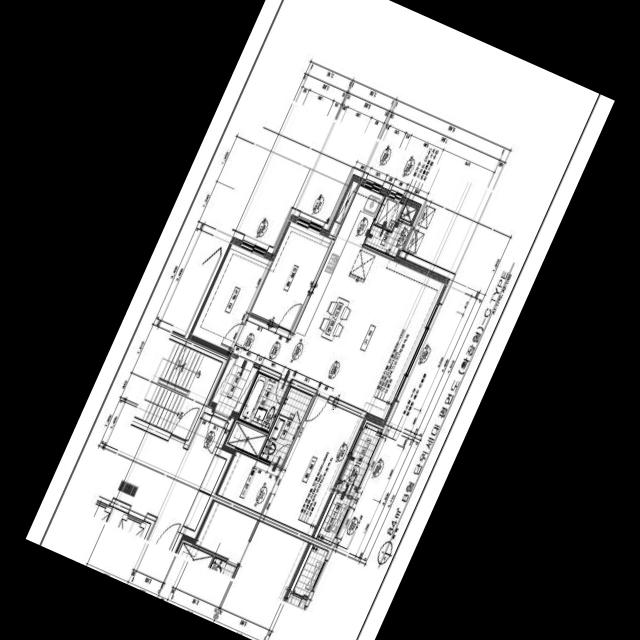background: (25, 0, 615, 640)
space_balconi: (340, 423, 382, 493), (365, 196, 411, 257)
space_bedroom: (263, 396, 367, 536), (251, 214, 332, 331), (192, 238, 273, 353)
space_dressroom: (218, 451, 280, 512)
space_elevator_hall: (99, 414, 228, 552)
space_front: (208, 356, 259, 420)
space_kitchen: (293, 185, 383, 350)
space_living_room: (233, 251, 449, 426)
space_other: (328, 175, 361, 236), (228, 422, 267, 456), (401, 200, 421, 223)
space_outdoor_room: (318, 491, 352, 542)
space_staircase: (134, 339, 222, 440)
space_toilet: (260, 387, 313, 466), (239, 373, 289, 432)
